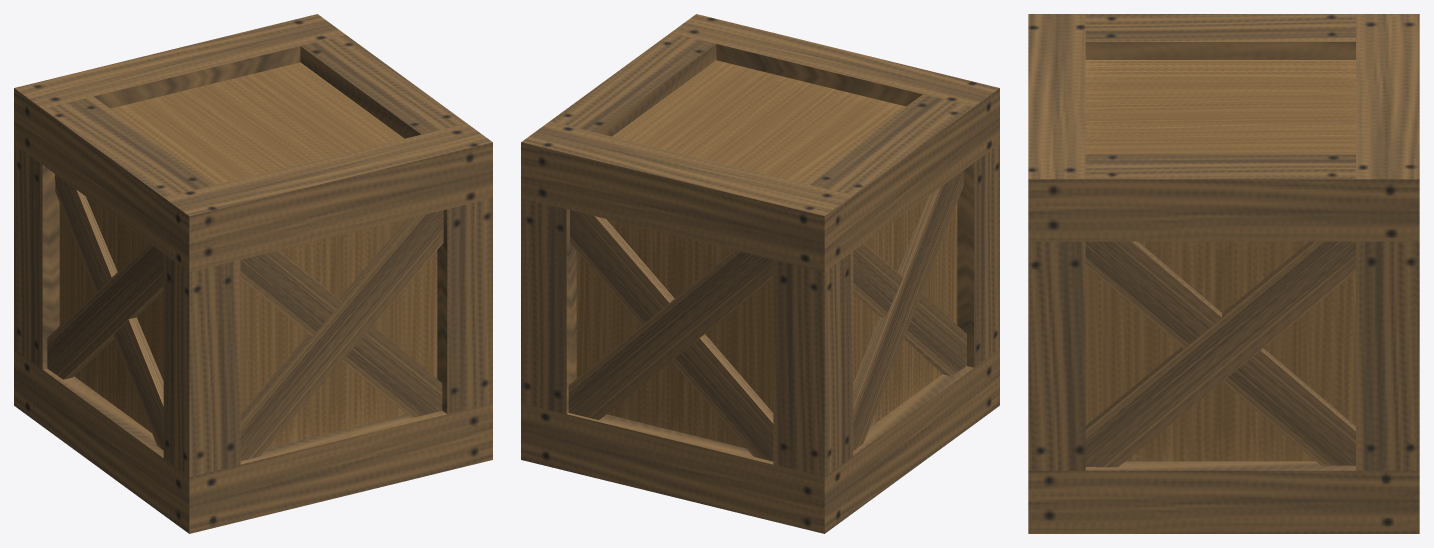
The model's file is wooden_box.fbx.
3 views of the same model, side by side, from view 1: azimuth 30°, elevation 25°; view 2: azimuth 150°, elevation 25°; view 3: azimuth 270°, elevation 25° (orthographic). The views are drawn at different scales.
Visible parts, largest first — view 1: wooden_box1, wooden_box3, wooden_box2, wooden_box4, wooden_box5; view 2: wooden_box1, wooden_box6, wooden_box7, wooden_box4, wooden_box5; view 3: wooden_box1, wooden_box8, wooden_box9.
Part boxes in pixels (x1,y1,x2,y2): wooden_box1: [14, 14, 492, 533]; wooden_box3: [240, 210, 443, 460]; wooden_box2: [240, 250, 442, 417]; wooden_box4: [47, 243, 163, 379]; wooden_box5: [55, 174, 163, 450]; wooden_box1: [521, 14, 999, 533]; wooden_box6: [568, 250, 773, 419]; wooden_box7: [570, 210, 773, 461]; wooden_box4: [853, 171, 963, 450]; wooden_box5: [853, 243, 966, 376]; wooden_box1: [1028, 14, 1419, 533]; wooden_box8: [1085, 241, 1355, 467]; wooden_box9: [1085, 241, 1355, 465].
Bounding box in the file's own units: 103 × 103 × 103.
